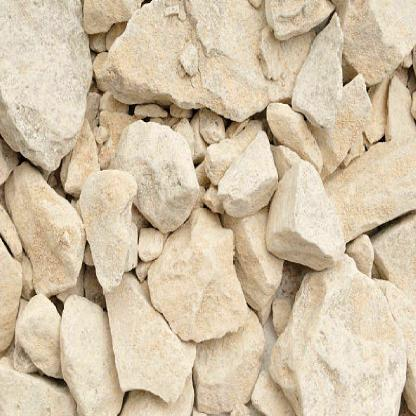Sedimentary_Limestone: (259, 266, 411, 415), (0, 0, 94, 188), (1, 167, 78, 296), (259, 162, 350, 270), (56, 296, 132, 415), (112, 121, 197, 223), (281, 10, 349, 136), (146, 239, 238, 319), (84, 170, 138, 286), (210, 133, 274, 229)
